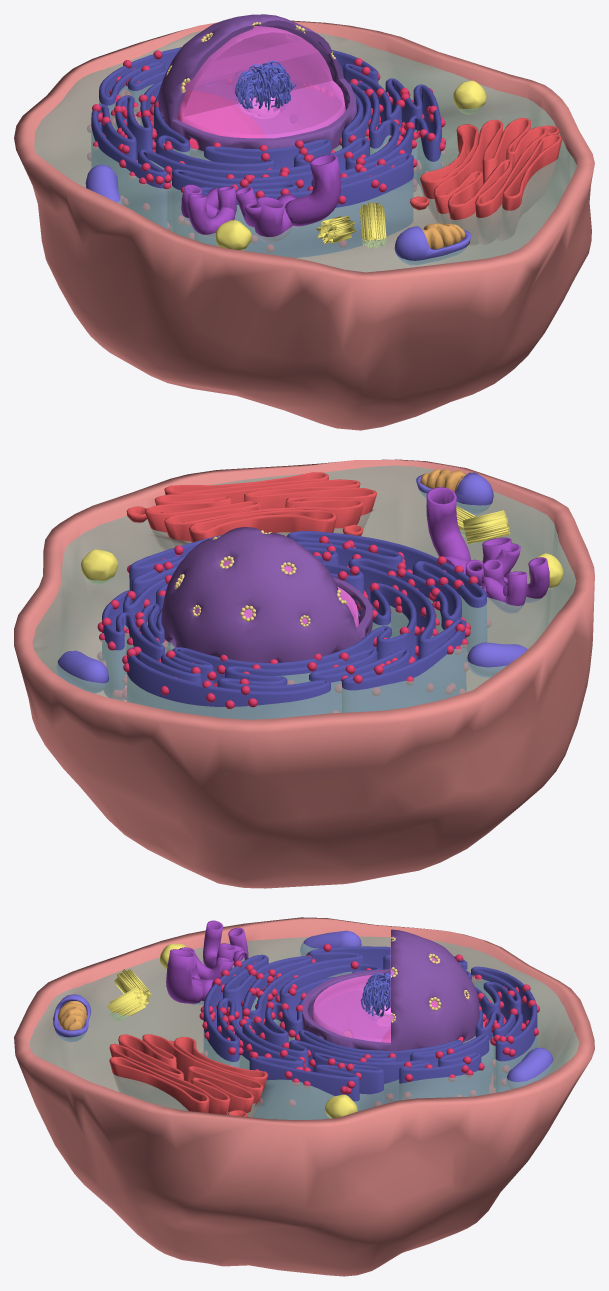
Rendered from animal_cell.glb.
The picture shows the model from 3 angles, top to bottom: view 1: azimuth 30°, elevation 25°; view 2: azimuth 150°, elevation 25°; view 3: azimuth 270°, elevation 25°; orthographic projection. The views are drawn at different scales.
Visible parts, largest first — view 1: Sphere_13, Sphere.001_18, BezierCurve_15, BezierCurve.002_14, Roundcube_10, Icosphere_16, BezierCurve.006_27, Roundcube.000_12, Sphere.023_22, Sphere.002_17, BezierCurve.004_26, Object_4054 (+3 smaller); view 2: Sphere_13, BezierCurve_15, Sphere.001_18, Icosphere_16, BezierCurve.002_14, Sphere.002_17, BezierCurve.006_27, Roundcube.000_12, BezierCurve.005_25, BezierCurve.004_26, Icosphere.002_9, Sphere.005_8; view 3: Sphere_13, BezierCurve_15, Sphere.001_18, Icosphere_16, BezierCurve.002_14, Roundcube_10, Sphere.002_17, Roundcube.000_12, BezierCurve.006_27, BezierCurve.004_26, BezierCurve.005_25, Sphere.005_8 (+1 smaller).
Boxes of the visible parts, x1=… form: Sphere_13: x1=14, y1=20, x2=594, y2=430; Sphere.001_18: x1=34, y1=31, x2=576, y2=272; BezierCurve_15: x1=91, y1=47, x2=441, y2=257; BezierCurve.002_14: x1=410, y1=118, x2=562, y2=245; Roundcube_10: x1=177, y1=26, x2=345, y2=139; Icosphere_16: x1=158, y1=14, x2=356, y2=159; BezierCurve.006_27: x1=254, y1=154, x2=341, y2=242; Roundcube.000_12: x1=215, y1=80, x2=486, y2=250; Sphere.023_22: x1=135, y1=90, x2=266, y2=230; Sphere.002_17: x1=85, y1=164, x2=471, y2=264; BezierCurve.004_26: x1=188, y1=186, x2=261, y2=236; Object_4054: x1=232, y1=62, x2=291, y2=115; Sphere_13: x1=14, y1=459, x2=594, y2=888; BezierCurve_15: x1=102, y1=531, x2=486, y2=719; Sphere.001_18: x1=32, y1=465, x2=576, y2=719; Icosphere_16: x1=161, y1=527, x2=372, y2=662; BezierCurve.002_14: x1=126, y1=472, x2=377, y2=550; Sphere.002_17: x1=56, y1=472, x2=527, y2=693; BezierCurve.006_27: x1=426, y1=487, x2=511, y2=577; Roundcube.000_12: x1=81, y1=506, x2=563, y2=589; BezierCurve.005_25: x1=481, y1=559, x2=526, y2=613; BezierCurve.004_26: x1=465, y1=543, x2=549, y2=602; Icosphere.002_9: x1=174, y1=530, x2=346, y2=626; Sphere.005_8: x1=420, y1=469, x2=465, y2=492; Sphere_13: x1=14, y1=917, x2=594, y2=1276; BezierCurve_15: x1=203, y1=946, x2=537, y2=1119; Sphere.001_18: x1=30, y1=936, x2=578, y2=1119; Icosphere_16: x1=302, y1=929, x2=479, y2=1051; BezierCurve.002_14: x1=109, y1=1034, x2=267, y2=1116; Roundcube_10: x1=311, y1=941, x2=466, y2=1042; Sphere.002_17: x1=53, y1=930, x2=553, y2=1089; Roundcube.000_12: x1=107, y1=943, x2=357, y2=1118; BezierCurve.006_27: x1=166, y1=949, x2=213, y2=1004; BezierCurve.004_26: x1=179, y1=920, x2=233, y2=979; BezierCurve.005_25: x1=216, y1=927, x2=248, y2=967; Sphere.005_8: x1=57, y1=1001, x2=86, y2=1030.
Bounding box in the file's own units: 5.96 × 3.98 × 7.04.
